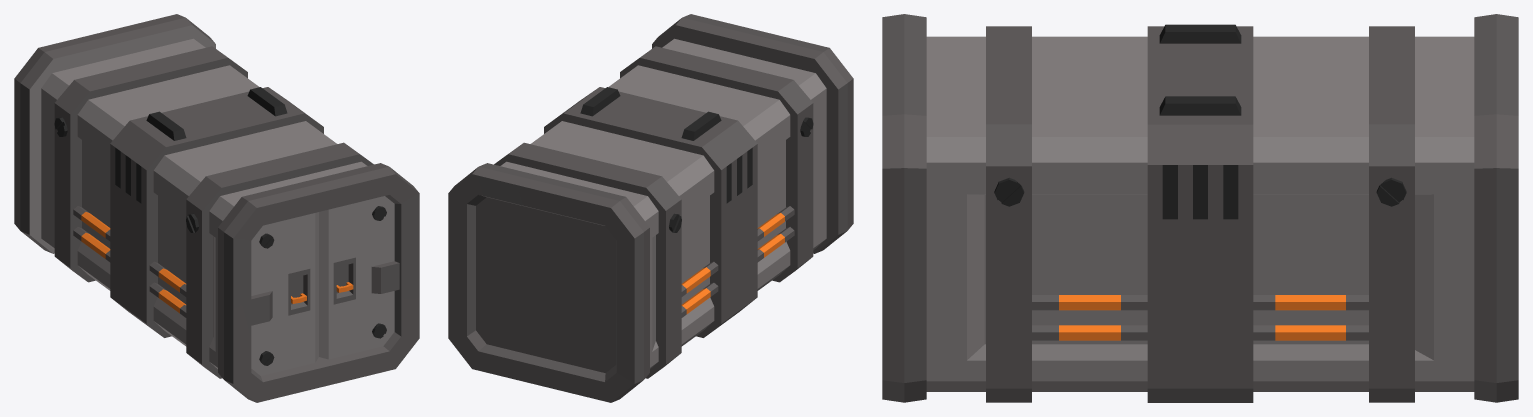
Rendered from scifi_scifi-cargo-big.fbx.
3 renders of one model, left to right at view 1: azimuth 30°, elevation 25°; view 2: azimuth 150°, elevation 25°; view 3: azimuth 270°, elevation 25°, orthographic. The views are drawn at different scales.
Parts seen in each view (by area): view 1: scifi_scifi_cargo_big; view 2: scifi_scifi_cargo_big; view 3: scifi_scifi_cargo_big.
Part boxes in pixels (x1,y1,x2,y2): scifi_scifi_cargo_big: (14, 14, 419, 402); scifi_scifi_cargo_big: (448, 14, 853, 402); scifi_scifi_cargo_big: (882, 14, 1518, 402).
Size of the model in its own units: 100 by 100 by 200.
